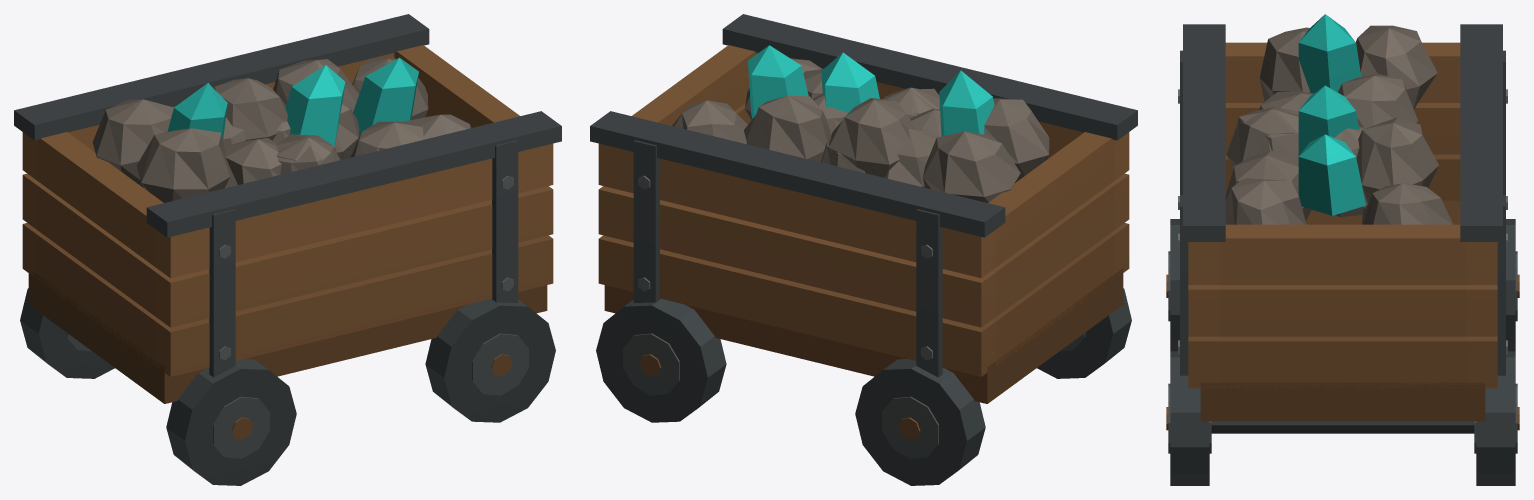
File: mine_cart.glb
The picture shows the model from 3 angles, left to right: view 1: azimuth 30°, elevation 25°; view 2: azimuth 150°, elevation 25°; view 3: azimuth 270°, elevation 25°; orthographic projection. The views are drawn at different scales.
Parts seen in each view (by area): view 1: mine_cart; view 2: mine_cart; view 3: mine_cart.
Part boxes in pixels (left/top/right/bottom): mine_cart: left=14, top=14, right=561, bottom=485; mine_cart: left=590, top=14, right=1137, bottom=485; mine_cart: left=1166, top=14, right=1519, bottom=485.
Size of the model in its own units: 1.34 by 1.1 by 0.994.
